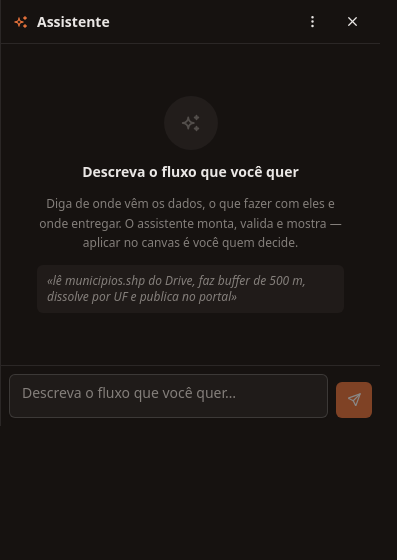
Test: gaveta do assistente › desenha a conversa a partir do stream, quadro a quadro
Type "monta um buffer de 500m" into the text box named "Mensagem para o assistente" at [168, 396], box [9, 374, 328, 418]
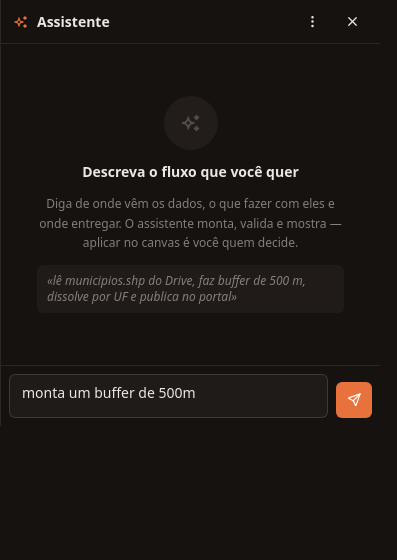
Submit the form named "Mensagem para o assistente", box [1, 364, 380, 426]
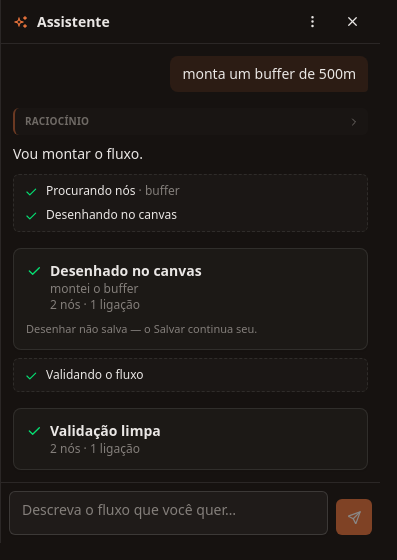
Result: the text "monta um buffer de 500m" is shown at [170, 56, 368, 92]
Result: the text "Vou montar o fluxo." is shown at [13, 144, 143, 163]
Result: the text "Procurando nós" is shown at [46, 182, 136, 199]
